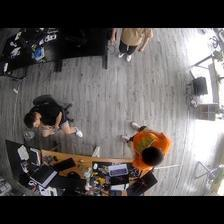normal: (23, 96, 85, 148), (119, 120, 173, 172), (109, 28, 153, 61)
